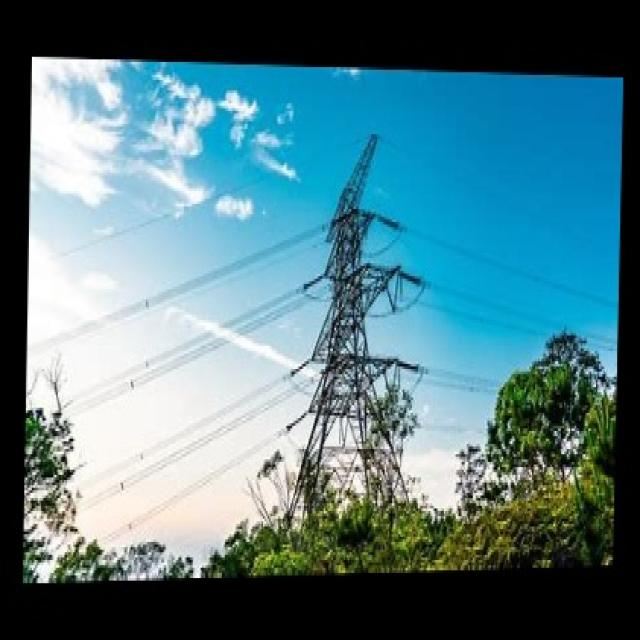utility poles: (471, 279, 587, 473), (322, 328, 428, 504)
